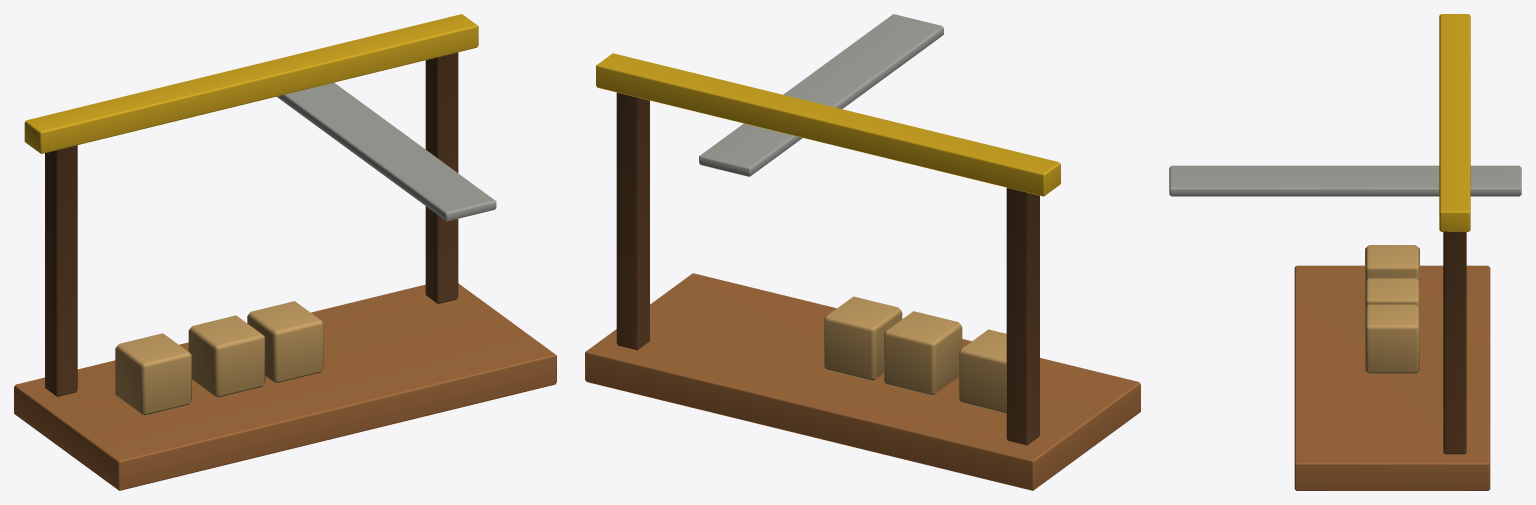
Rendered from pickup_stand.glb.
3 renders of one model, left to right at view 1: azimuth 30°, elevation 25°; view 2: azimuth 150°, elevation 25°; view 3: azimuth 270°, elevation 25°, orthographic. The views are drawn at different scales.
Visible parts, largest first — view 1: pickup_stand; view 2: pickup_stand; view 3: pickup_stand.
Part boxes in pixels (box(x1,y1,x2,y2)): pickup_stand: box(14, 14, 556, 490); pickup_stand: box(585, 14, 1140, 490); pickup_stand: box(1169, 14, 1521, 490).
Size of the model in its own units: 6 by 3.95 by 4.5.
